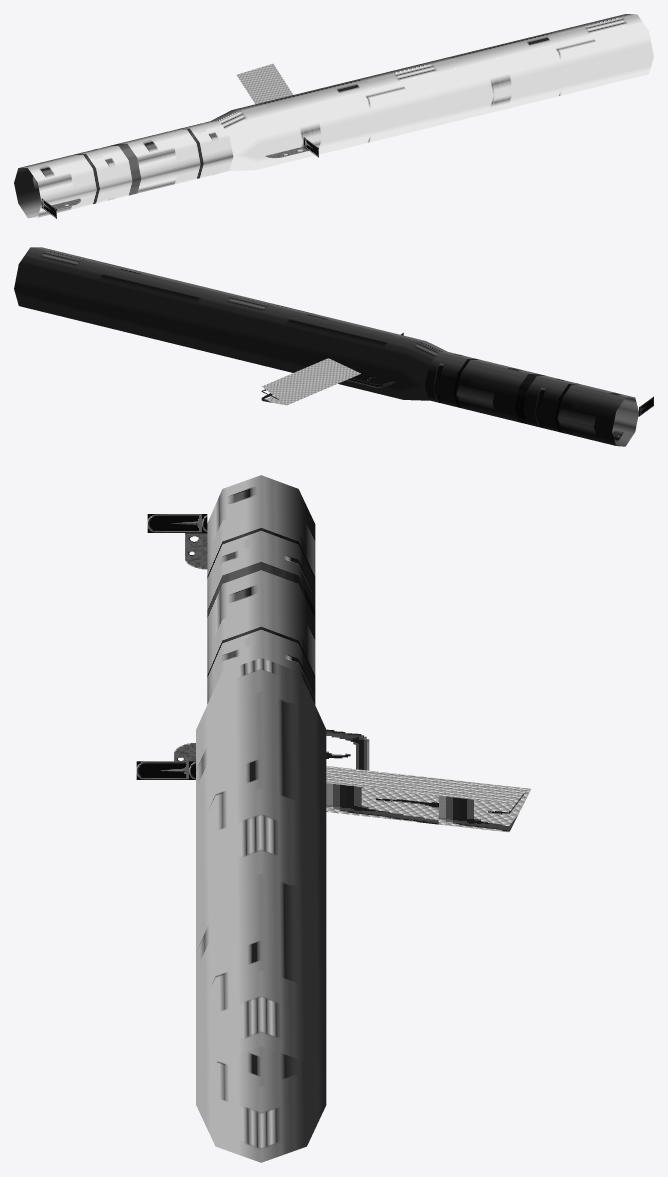
The model's file is PchrrocketlaunchZ.obj.
3 renders of one model, top to bottom at view 1: azimuth 30°, elevation 25°; view 2: azimuth 150°, elevation 25°; view 3: azimuth 270°, elevation 25°, orthographic. The views are drawn at different scales.
Bounding box in the file's own units: 992 × 93 × 285.
7 materials, 7 textured.
